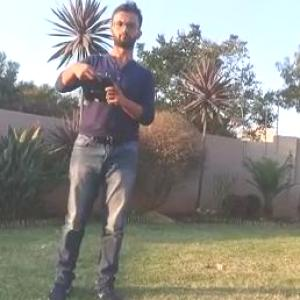follow: (42, 0, 164, 299)
